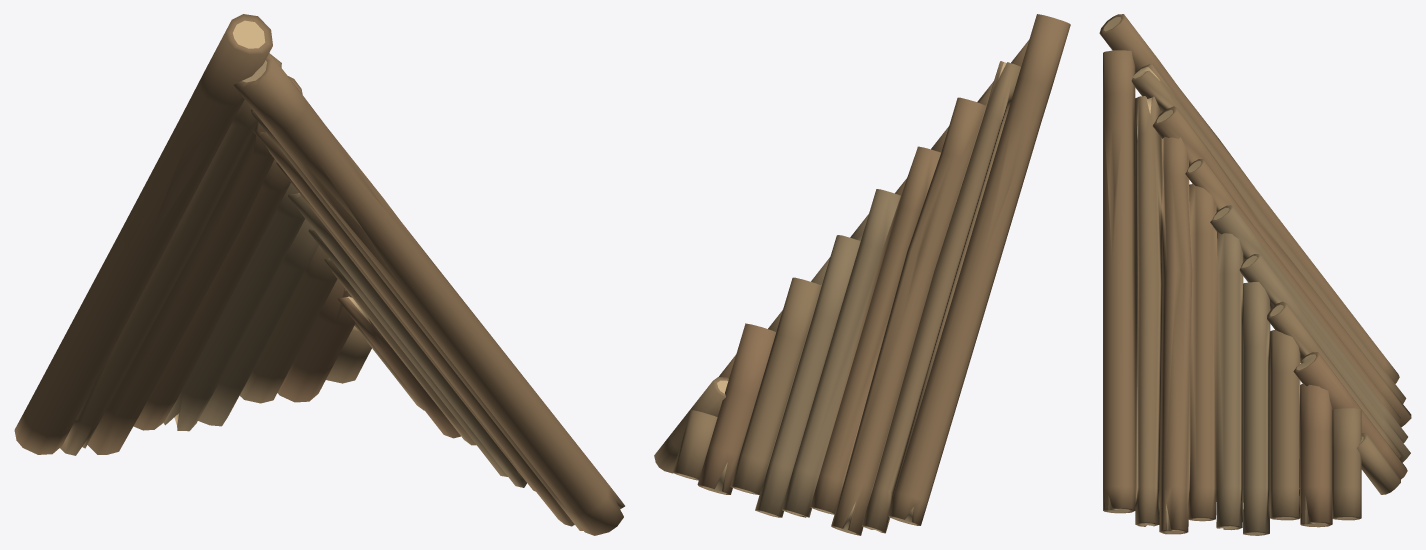
File: rpgpp_ag_roof_01_6x5x3_corner_02.fbx
3 views of the same model, side by side, from view 1: azimuth 30°, elevation 25°; view 2: azimuth 150°, elevation 25°; view 3: azimuth 270°, elevation 25° (orthographic). The views are drawn at different scales.
Visible parts, largest first — view 1: rpgpp_ag_roof_01_6x5x3_corner_02; view 2: rpgpp_ag_roof_01_6x5x3_corner_02; view 3: rpgpp_ag_roof_01_6x5x3_corner_02.
Part boxes in pixels (bbox=[...]): rpgpp_ag_roof_01_6x5x3_corner_02: bbox=[14, 14, 624, 535]; rpgpp_ag_roof_01_6x5x3_corner_02: bbox=[654, 14, 1070, 535]; rpgpp_ag_roof_01_6x5x3_corner_02: bbox=[1099, 14, 1411, 535].
Bounding box in the file's own units: 4.07 × 5.84 × 4.08.
